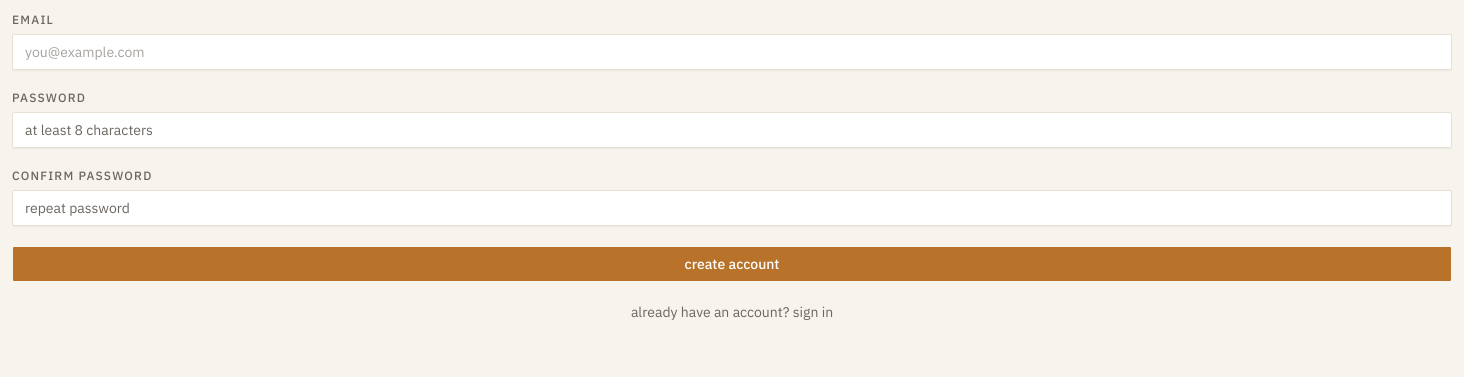
SignupForm › does NOT show confirmation or push when signUp fails
The image size is (1464, 377).
In the field labelled "Email": (732, 52) [12, 34, 1452, 70], type "new@example.com"
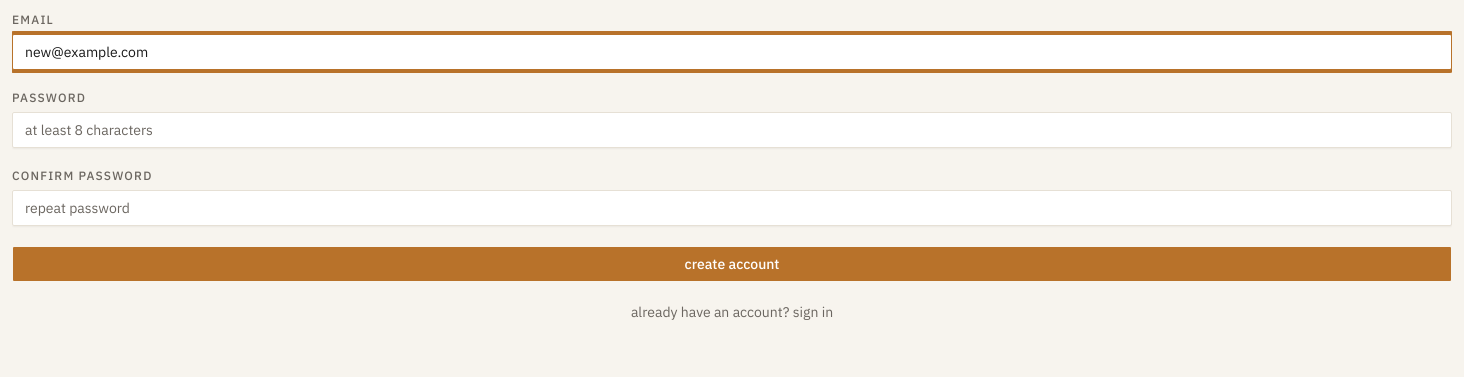
In the password field labelled "Password": (732, 130) [12, 112, 1452, 148], type "securePass1"
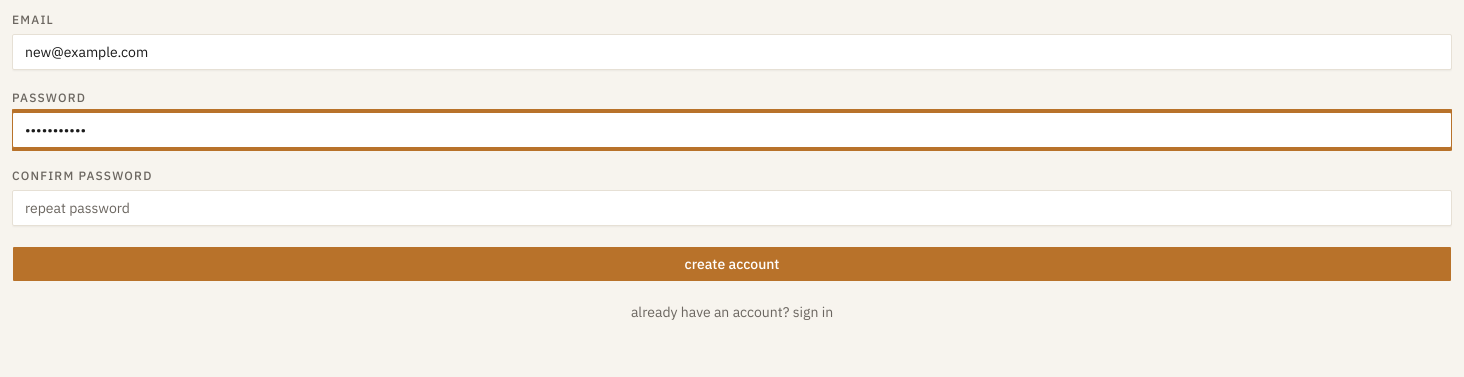
In the password field labelled "Confirm Password": (732, 208) [12, 190, 1452, 226], type "securePass1"
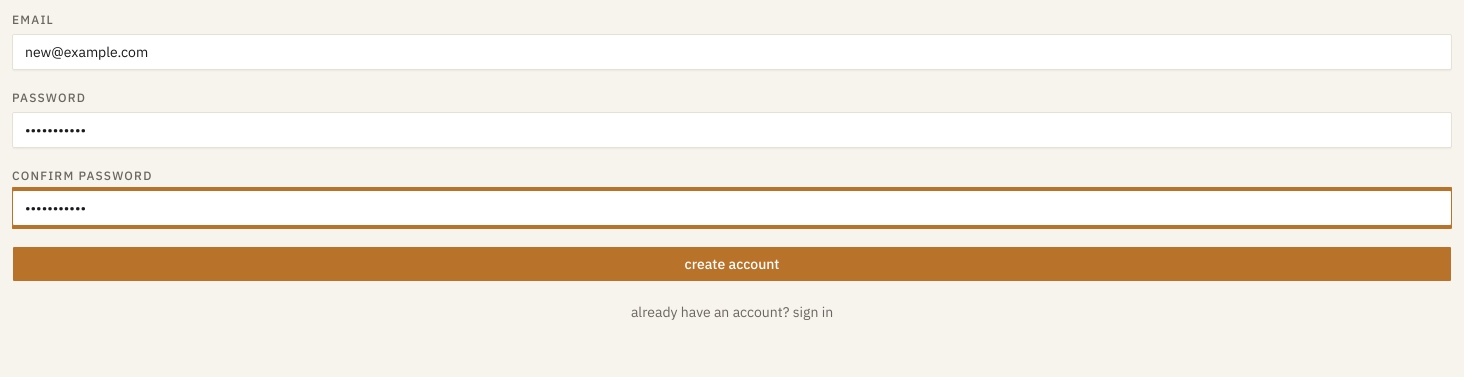
Click the button with test id "signup-submit": click(732, 264) [12, 246, 1452, 282]
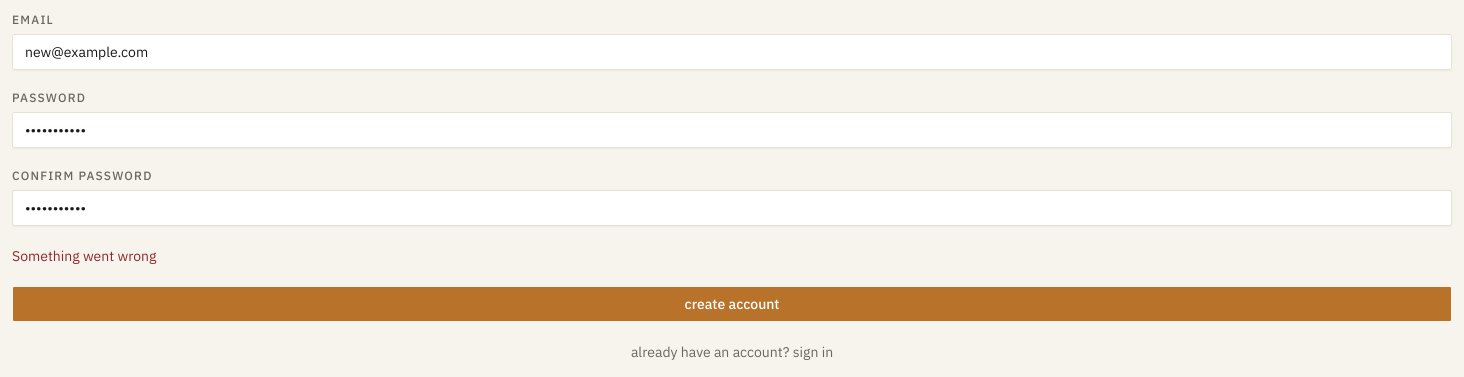
Check: the message "Something went wrong" is shown, box [12, 247, 156, 265]
